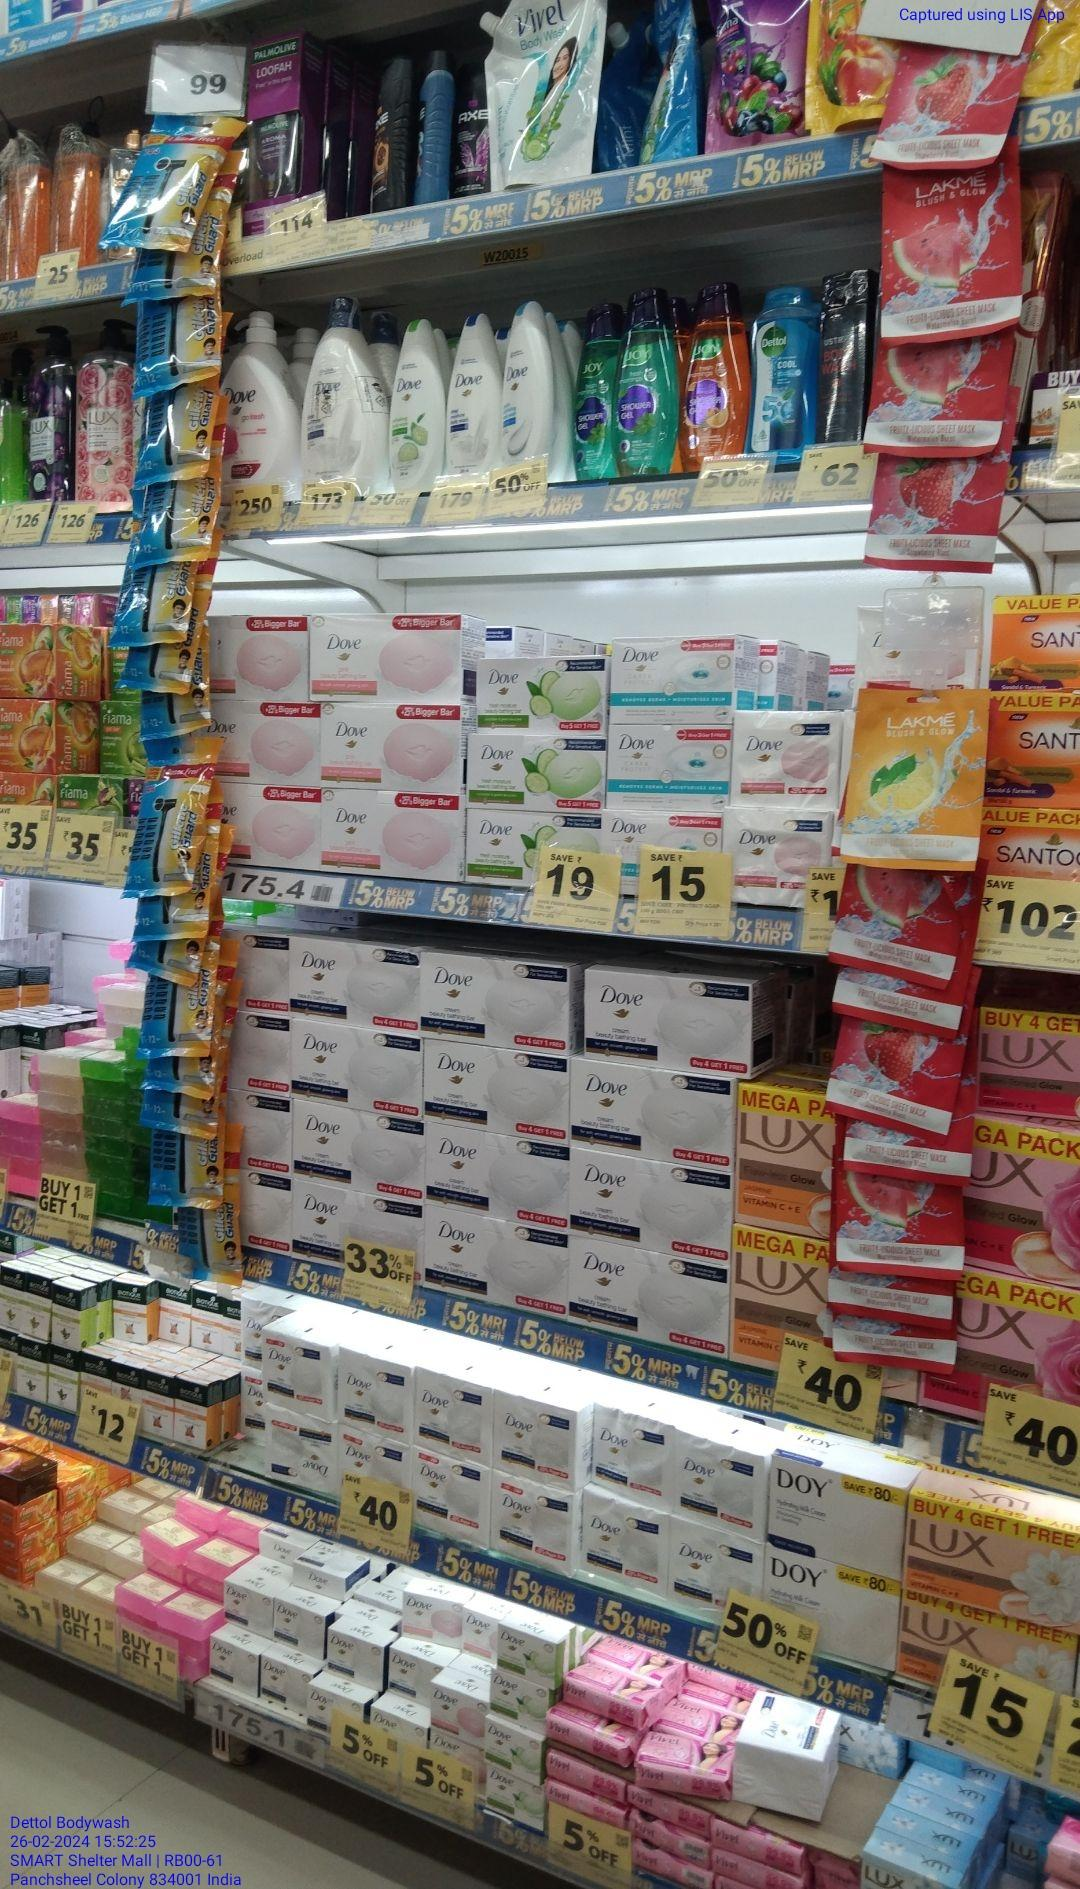Dettol_Bodywash_Cool: (752, 280, 815, 459)
Dove_Deep_Moisture_Body_Wash_250ML: (448, 313, 497, 485)
Dove_Gentle_Exfoliating_Body_Wash_250ML: (500, 297, 553, 474)
Dove_Refreshing_Body_Wash_250ML: (388, 318, 441, 494)
Joy_Shower_Gel_Mandarin_and_Lemongrass_250ML: (683, 279, 744, 474)
Joy_Shower_Gel_Mint_and_Eucalyptus_250ML: (617, 284, 675, 477), (572, 301, 614, 480)
